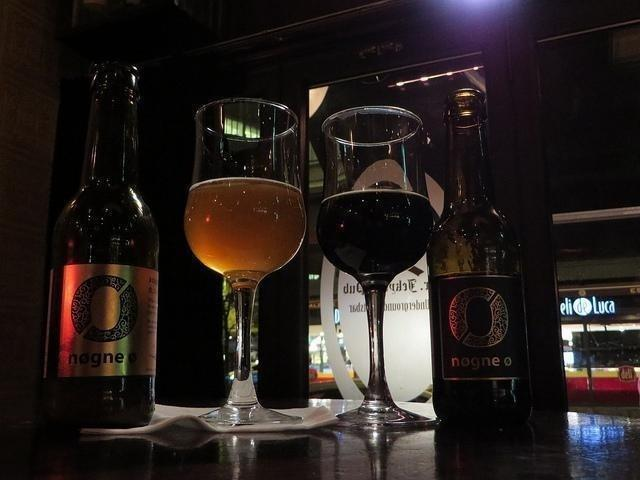bottle-glass: (36, 62, 165, 429), (426, 87, 539, 420)
glass-wine: (180, 98, 314, 426), (313, 105, 439, 424)
